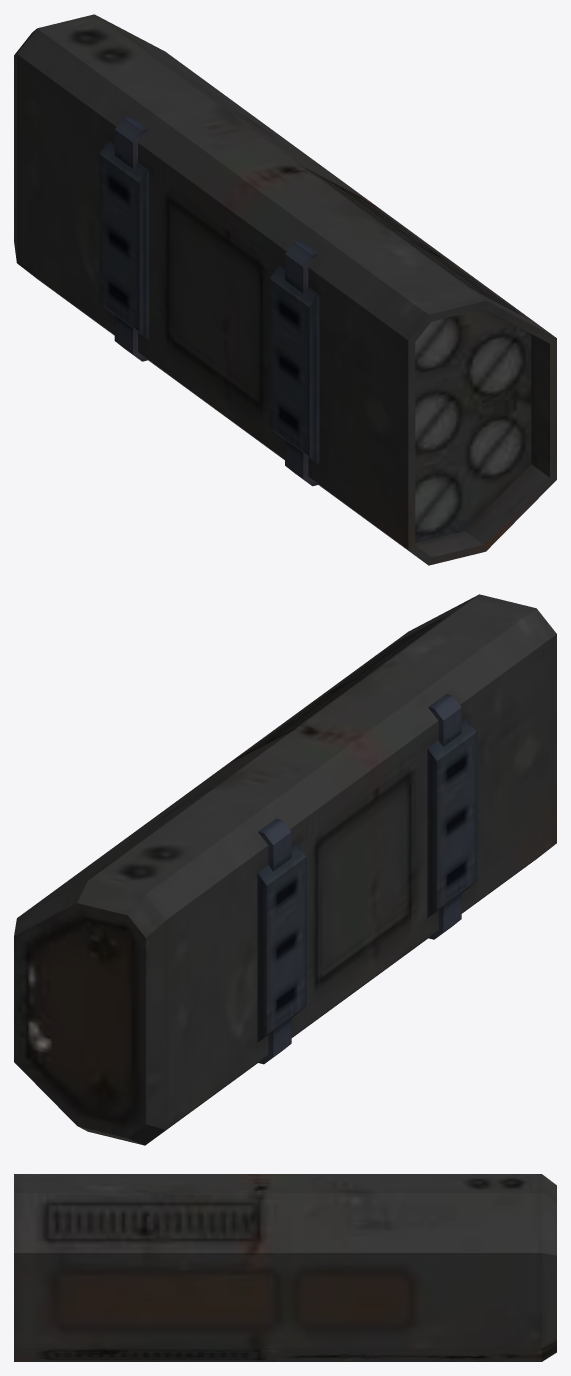
File: ScifiMechLRMRackX5.glb
3 views of the same model, one above another, from view 1: azimuth 30°, elevation 25°; view 2: azimuth 150°, elevation 25°; view 3: azimuth 270°, elevation 25° (orthographic). The views are drawn at different scales.
Parts seen in each view (by area): view 1: ScifiMechLRMRackX5; view 2: ScifiMechLRMRackX5; view 3: ScifiMechLRMRackX5.
Boxes of the visible parts, x1,y1,x2,y2 form: ScifiMechLRMRackX5: (14,14,556,565); ScifiMechLRMRackX5: (14,594,556,1145); ScifiMechLRMRackX5: (14,1174,556,1361).
Size of the model in its own units: 0.00673 by 0.0102 by 0.0297.
Materials: 1 (1 with a texture image).
